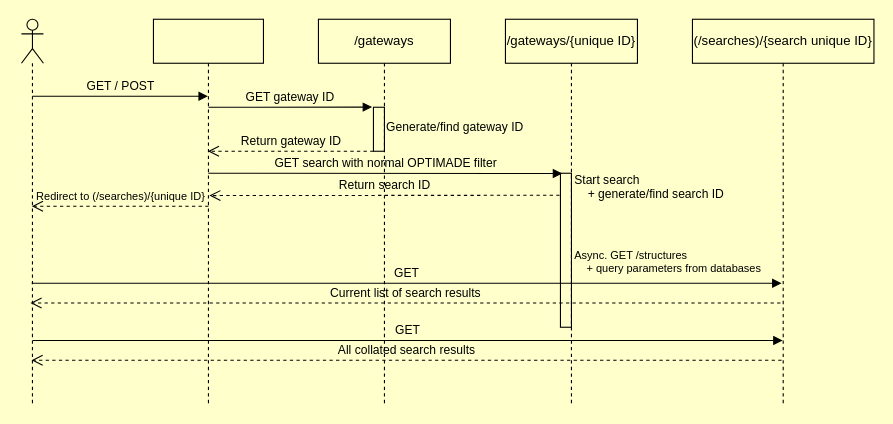
The diagram is 893 pixels wide and 424 high, and some of its shapes have lost their labels. The box of each missing label's shape, as (x1, y1, x2, y2) in pixels:
/search: (152, 18, 263, 404)
User: (20, 18, 43, 404)
